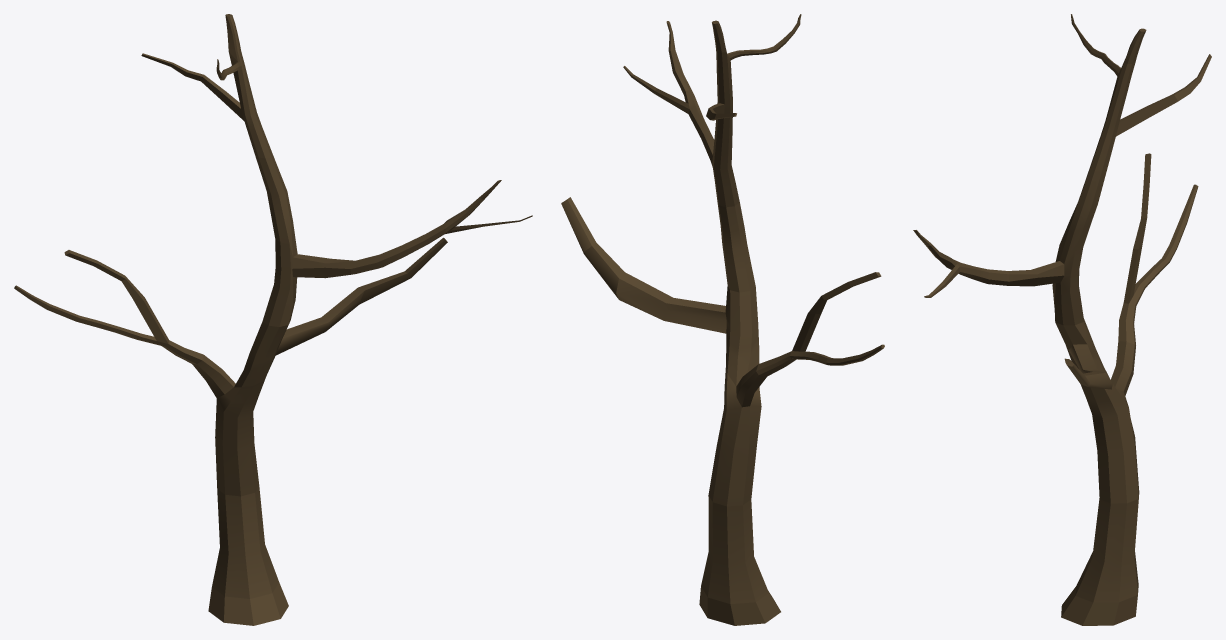
File: TREE3_branch.fbx
3 views of the same model, side by side, from view 1: azimuth 30°, elevation 25°; view 2: azimuth 150°, elevation 25°; view 3: azimuth 270°, elevation 25° (orthographic). The views are drawn at different scales.
Parts seen in each view (by area): view 1: polySurface814; view 2: polySurface814; view 3: polySurface814.
Boxes of the visible parts, x1,y1,x2,y2 form: polySurface814: (14,14,532,625); polySurface814: (561,14,884,625); polySurface814: (913,14,1211,625).
Size of the model in its own units: 12.38 by 17.82 by 8.28.
